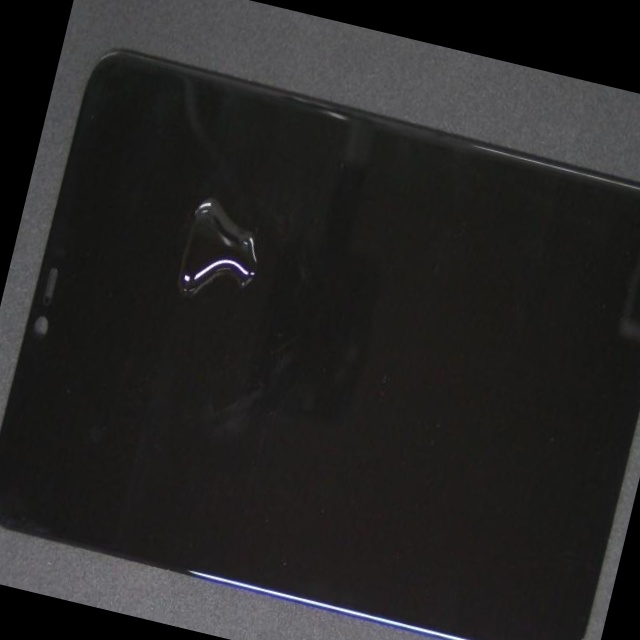oil: (139, 109, 381, 341)
